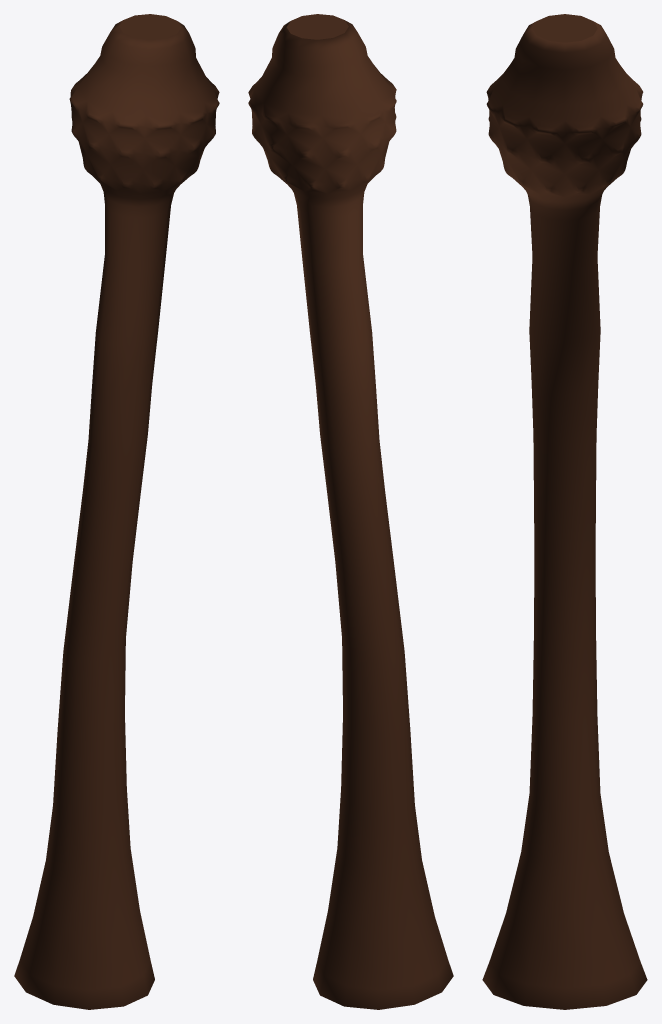
Rendered from PalmStraight.fbx.
3 renders of one model, left to right at view 1: azimuth 30°, elevation 25°; view 2: azimuth 150°, elevation 25°; view 3: azimuth 270°, elevation 25°, orthographic. The views are drawn at different scales.
Parts seen in each view (by area): view 1: pCylinder12; view 2: pCylinder12; view 3: pCylinder12.
Part boxes in pixels (x1,y1,x2,y2): pCylinder12: (14,14,219,1009); pCylinder12: (248,14,453,1009); pCylinder12: (482,14,647,1009).
Bounding box in the file's own units: 0.6652 × 3.24 × 0.4914.
